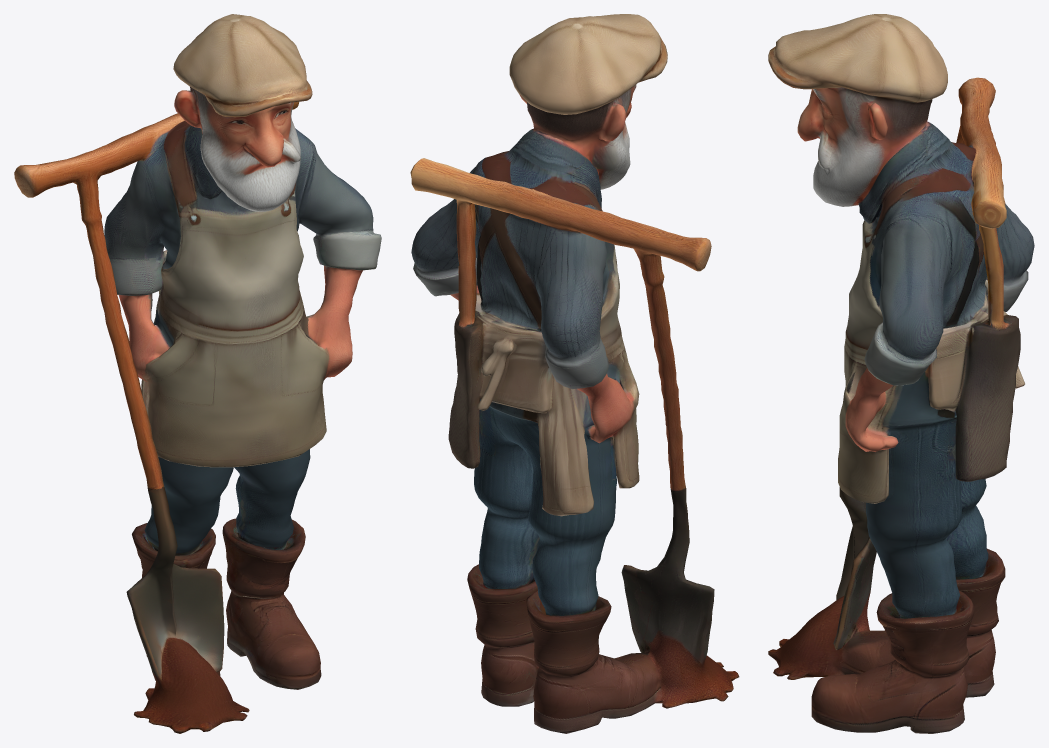
The model's file is npc_gravedigger.glb.
The picture shows the model from 3 angles, left to right: view 1: azimuth 30°, elevation 25°; view 2: azimuth 150°, elevation 25°; view 3: azimuth 270°, elevation 25°; orthographic projection. The views are drawn at different scales.
Bounding box in the file's own units: 0.9785 × 1.91 × 0.6732.
Materials: 1 (1 with a texture image).
